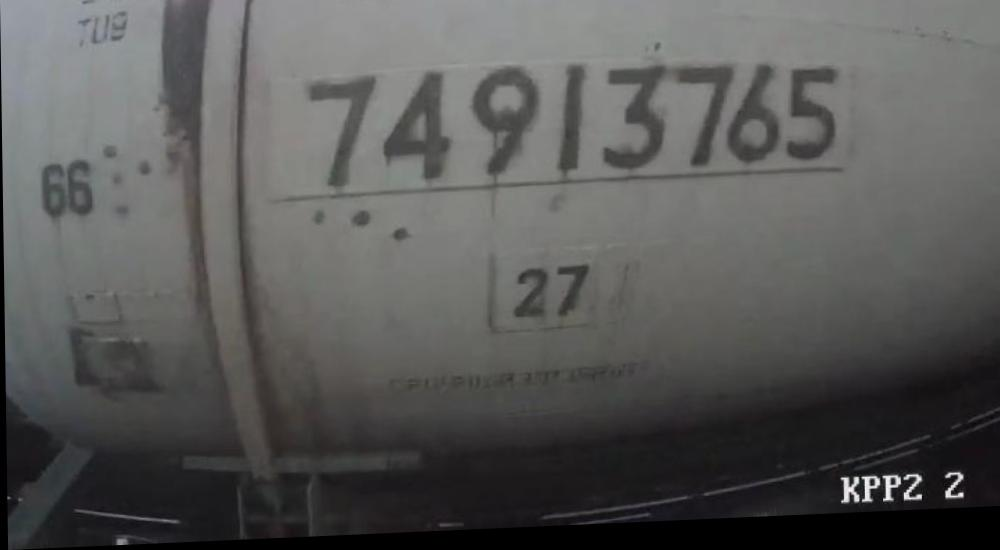Wagon-number: (301, 55, 843, 192)
